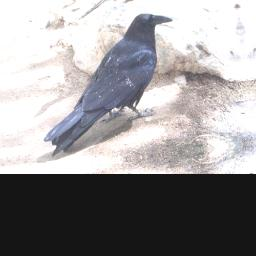Crow: (29, 8, 191, 159)
